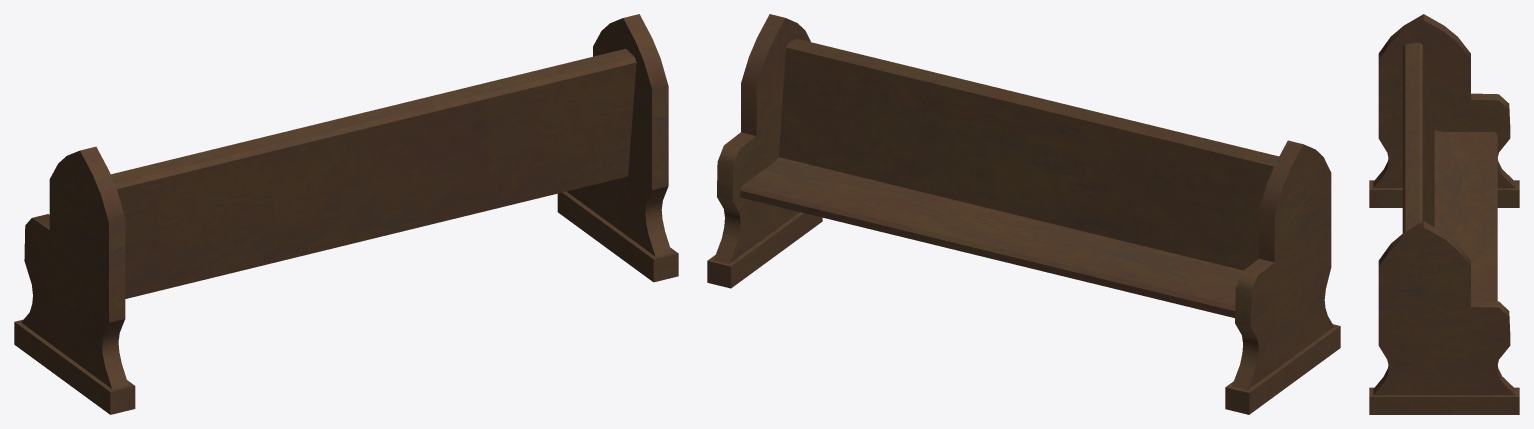
File: bench_seat.fbx
3 renders of one model, left to right at view 1: azimuth 30°, elevation 25°; view 2: azimuth 150°, elevation 25°; view 3: azimuth 270°, elevation 25°, orthographic. The views are drawn at different scales.
Parts seen in each view (by area): view 1: SM_CeilingSlant20.020; view 2: SM_CeilingSlant20.020; view 3: SM_CeilingSlant20.020.
Boxes of the visible parts, x1,y1,x2,y2 form: SM_CeilingSlant20.020: (14,14,678,414); SM_CeilingSlant20.020: (707,14,1340,414); SM_CeilingSlant20.020: (1369,14,1519,414).
Size of the model in its own units: 1.31 by 0.5223 by 0.382.
